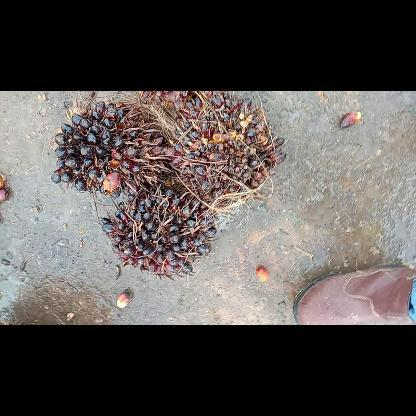TBS abnormal: (168, 95, 288, 213), (99, 177, 219, 281)
TBS masak: (50, 97, 182, 197), (134, 91, 234, 127)
